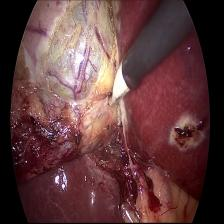Hook: (105, 60, 134, 111)
